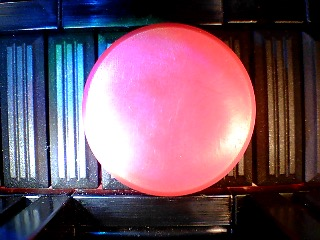BLANK: (82, 23, 257, 197)
